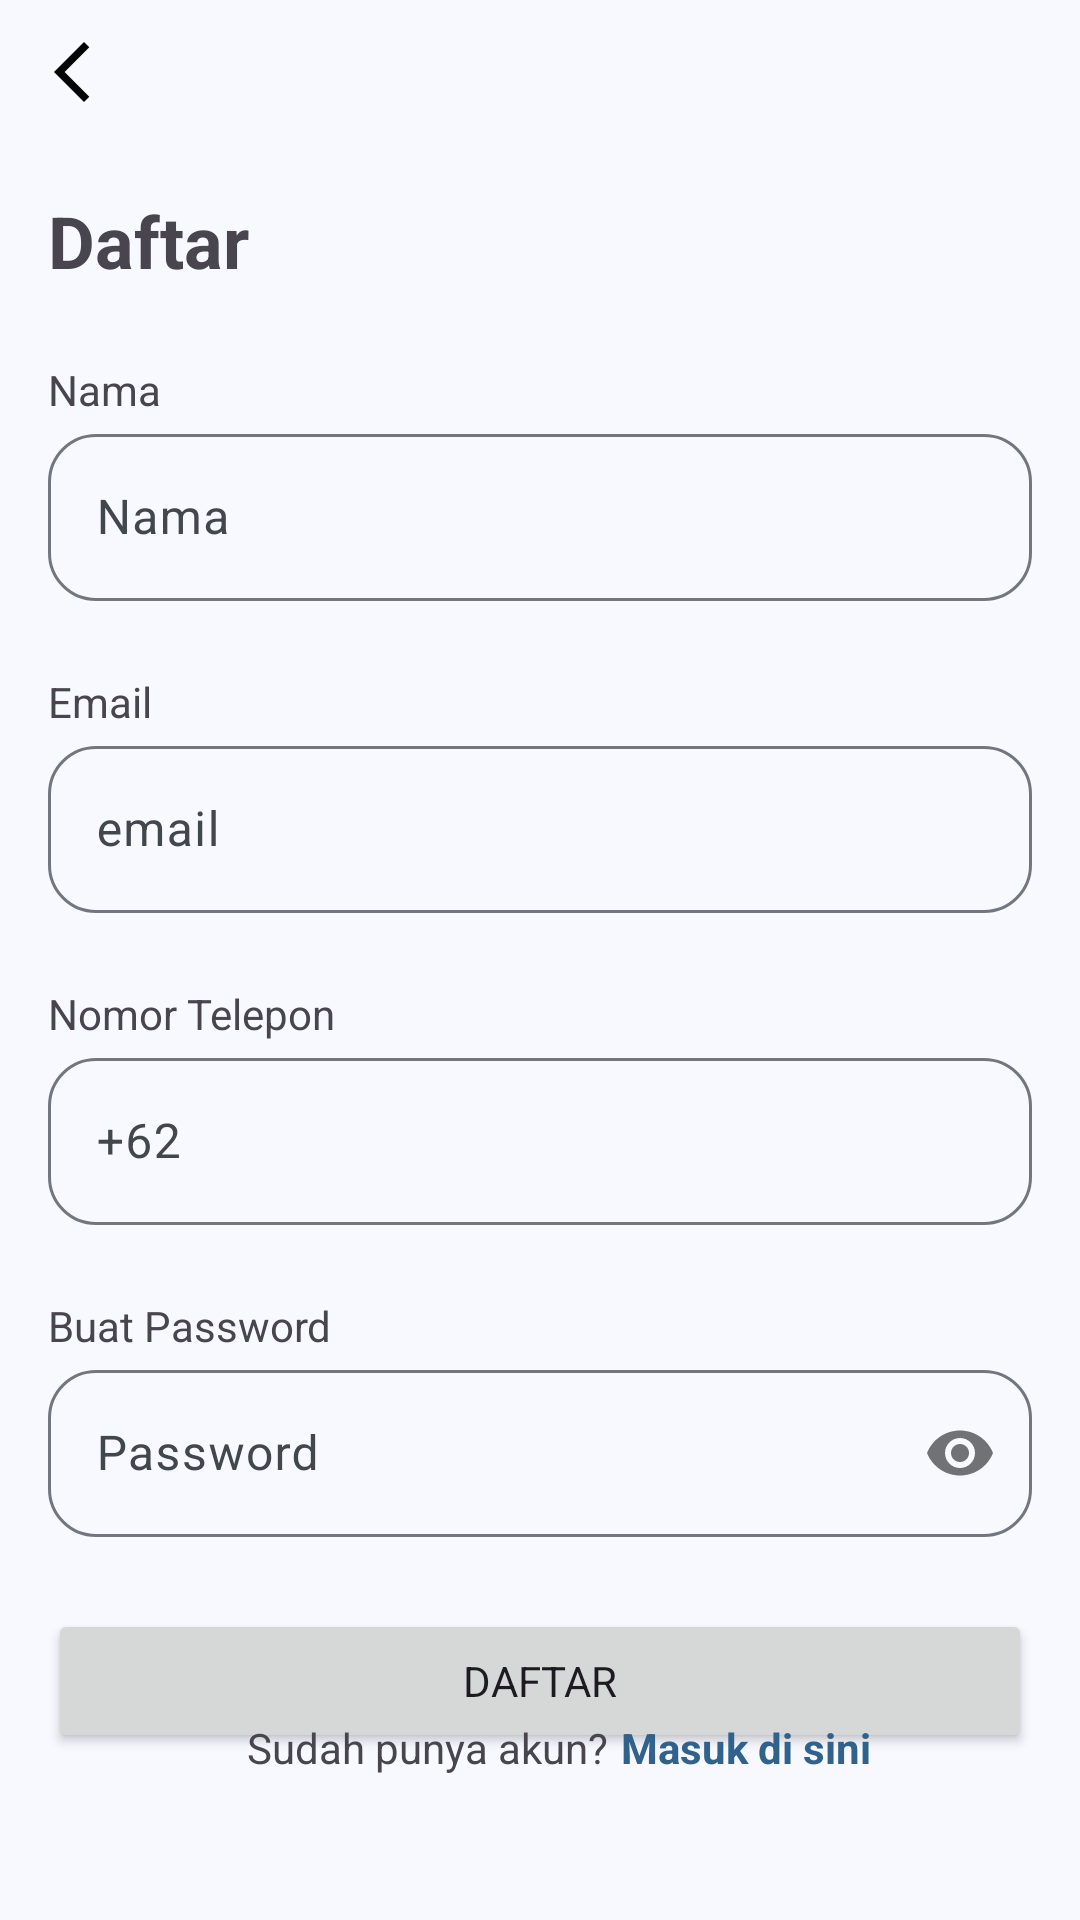

Screen size 1080px x 1920px. Icon name, then its box in pixels as (x1, y1, x2, y2):
back: (54, 42, 89, 102)
